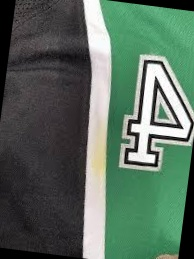mustard: (88, 121, 109, 180)
